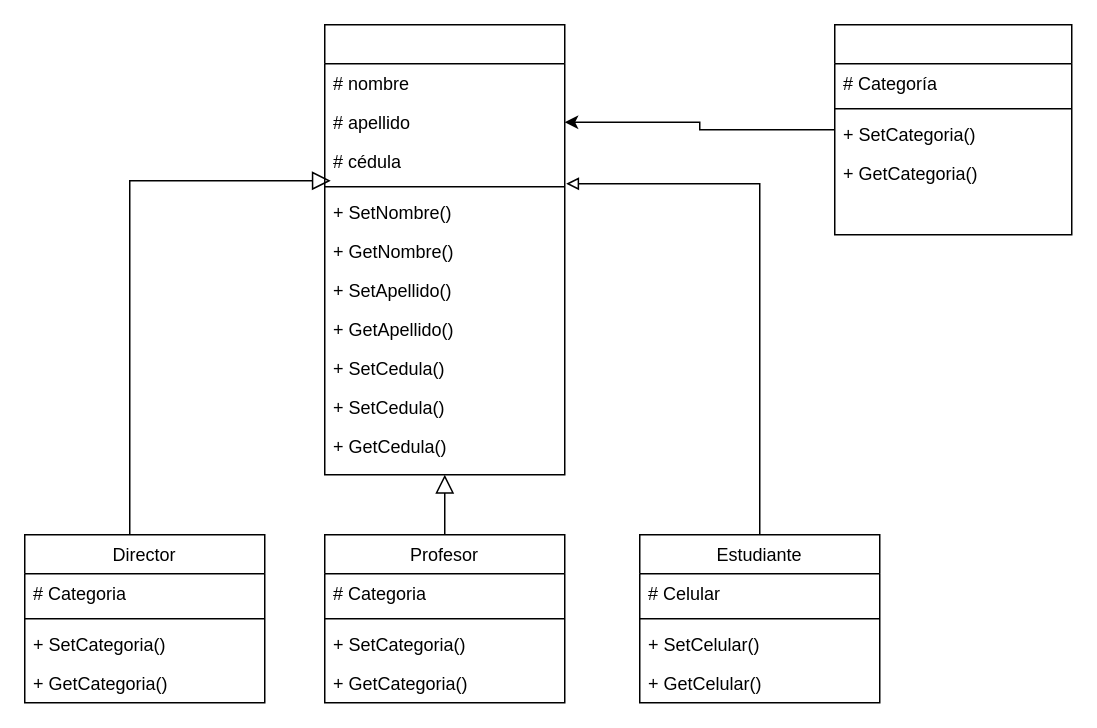
Some shapes in this 1097 by 728 pixel diagram are drawn without their labels. The shapes that lost their labels are listed below. From the top down, each one's box as (x1, y1, x2, y2) in pixels, then its label:
(833, 23, 1072, 235): #decano
(323, 23, 565, 475): Persona
